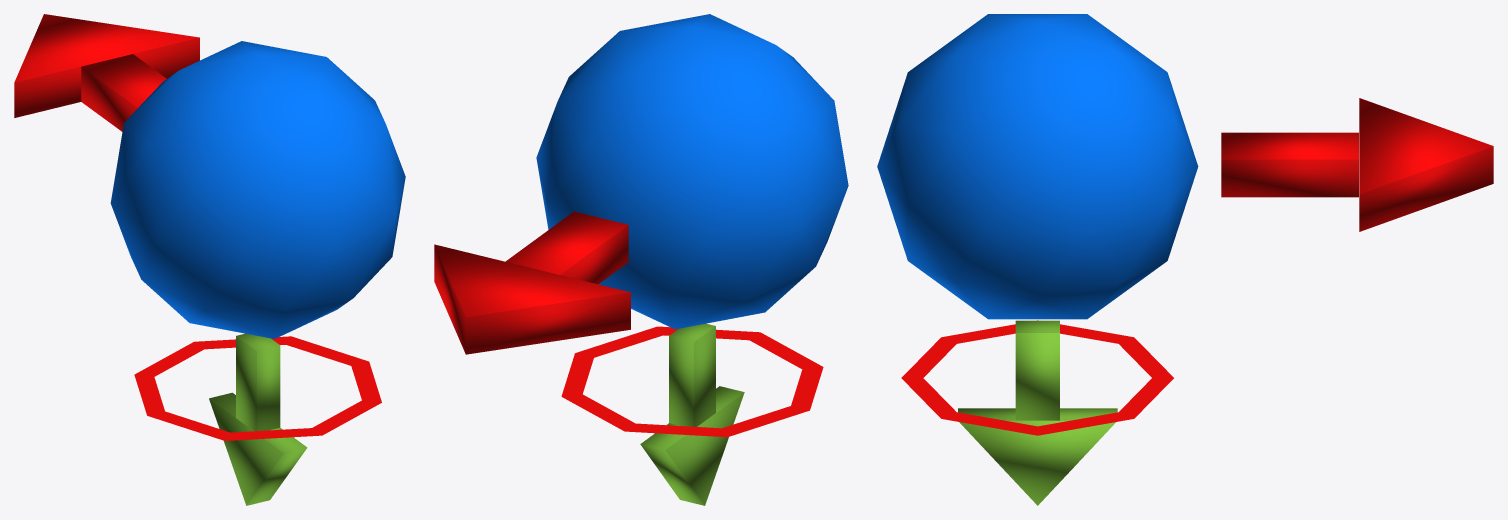
The model's file is spawnsphere.fbx.
3 renders of one model, left to right at view 1: azimuth 30°, elevation 25°; view 2: azimuth 150°, elevation 25°; view 3: azimuth 270°, elevation 25°, orthographic. The views are drawn at different scales.
Parts seen in each view (by area): view 1: Marble, Arrow, Arrow.001, Circle; view 2: Marble, Arrow, Arrow.001, Circle; view 3: Marble, Arrow, Arrow.001, Circle.
Boxes of the visible parts, x1,y1,x2,y2 form: Marble: [110, 41, 405, 338]; Arrow: [14, 14, 199, 131]; Arrow.001: [209, 333, 307, 505]; Circle: [134, 336, 381, 440]; Marble: [536, 14, 848, 329]; Arrow: [434, 211, 630, 354]; Arrow.001: [640, 323, 744, 505]; Circle: [561, 326, 823, 437]; Marble: [877, 14, 1198, 319]; Arrow: [1221, 98, 1493, 231]; Arrow.001: [958, 320, 1117, 505]; Circle: [901, 320, 1173, 435].
Size of the model in its own units: 0.9315 by 1.61 by 1.88.
